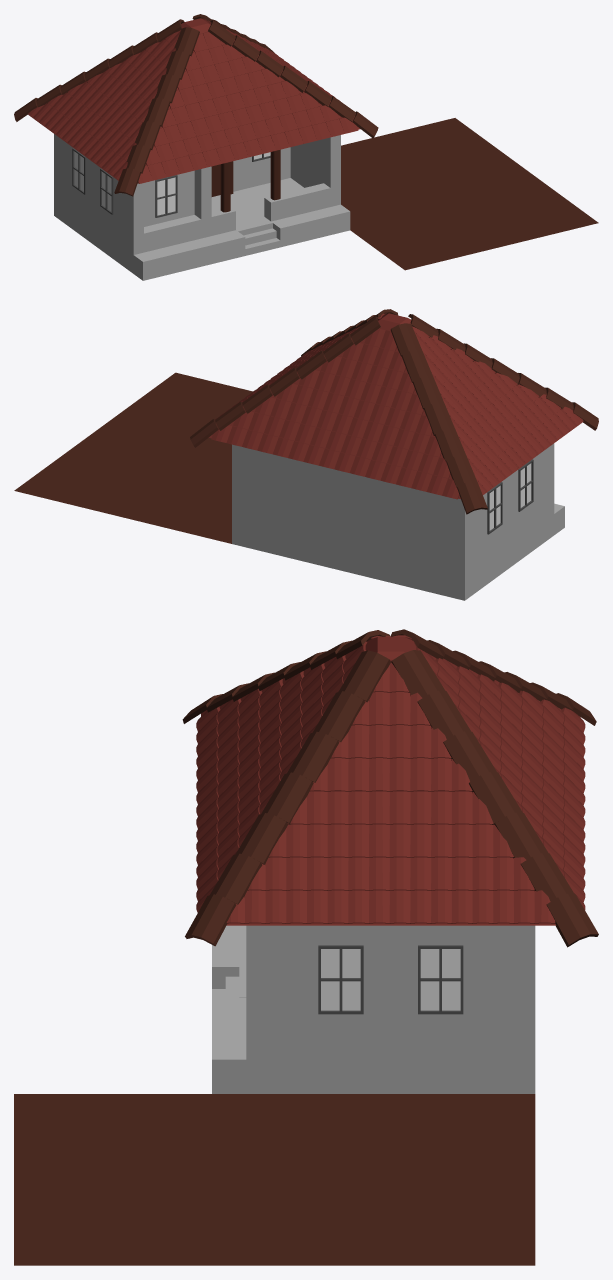
Rendered from rumah mc update.fbx.
The picture shows the model from 3 angles, top to bottom: view 1: azimuth 30°, elevation 25°; view 2: azimuth 150°, elevation 25°; view 3: azimuth 270°, elevation 25°; orthographic projection. The views are drawn at different scales.
Parts seen in each view (by area): view 1: Plane.023, Plane, Plane.014, Plane.012, Plane.009, Plane.008, Plane.016, Plane.018, Plane.013, Plane.001, Plane.003, Plane.004 (+1 smaller); view 2: Plane, Plane.023, Plane.011, Plane.012, Plane.009, Plane.008, Plane.013, Plane.005, Plane.004; view 3: Plane.023, Plane, Plane.013, Plane.009, Plane.014, Plane.011, Plane.008, Plane.022, Plane.021, Plane.007, Plane.006.
Part boxes in pixels (x1,y1,x2,y2): Plane.023: (341,118,598,270); Plane: (54,134,350,280); Plane.014: (138,32,358,183); Plane.012: (28,27,182,179); Plane.009: (14,14,378,196); Plane.008: (28,18,360,183); Plane.016: (220,149,280,212); Plane.018: (157,177,175,215); Plane.013: (203,18,355,114); Plane.001: (155,175,177,217); Plane.003: (211,161,233,196); Plane.004: (100,168,113,214); Plane: (232,443,564,600); Plane.023: (14,372,252,543); Plane.011: (211,328,459,499); Plane.012: (410,323,583,493); Plane.009: (190,309,598,514); Plane.008: (209,313,583,499); Plane.013: (215,313,386,419); Plane.005: (487,482,502,534); Plane.004: (518,459,533,511); Plane.023: (14,1094,535,1265); Plane: (212,925,535,1093); Plane.013: (226,659,555,923); Plane.009: (182,629,598,947); Plane.014: (196,641,367,912); Plane.011: (414,643,585,909); Plane.008: (201,637,580,925); Plane.022: (420,949,460,1010); Plane.021: (321,949,360,1010); Plane.007: (318,945,363,1014); Plane.006: (418,945,463,1014).
Size of the model in its own units: 3309 by 1459 by 2147.
